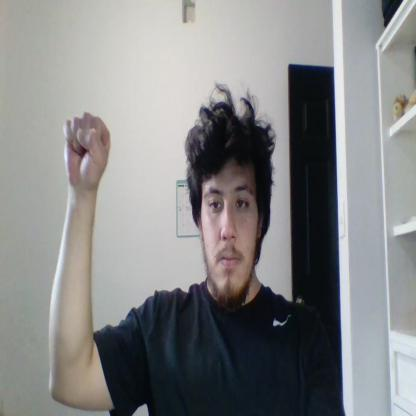S: (64, 111, 110, 188)
